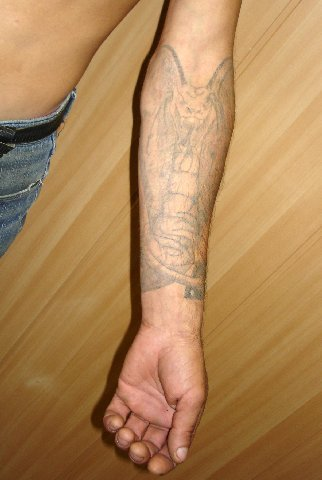tatu7_zmeya: (145, 32, 230, 323)
